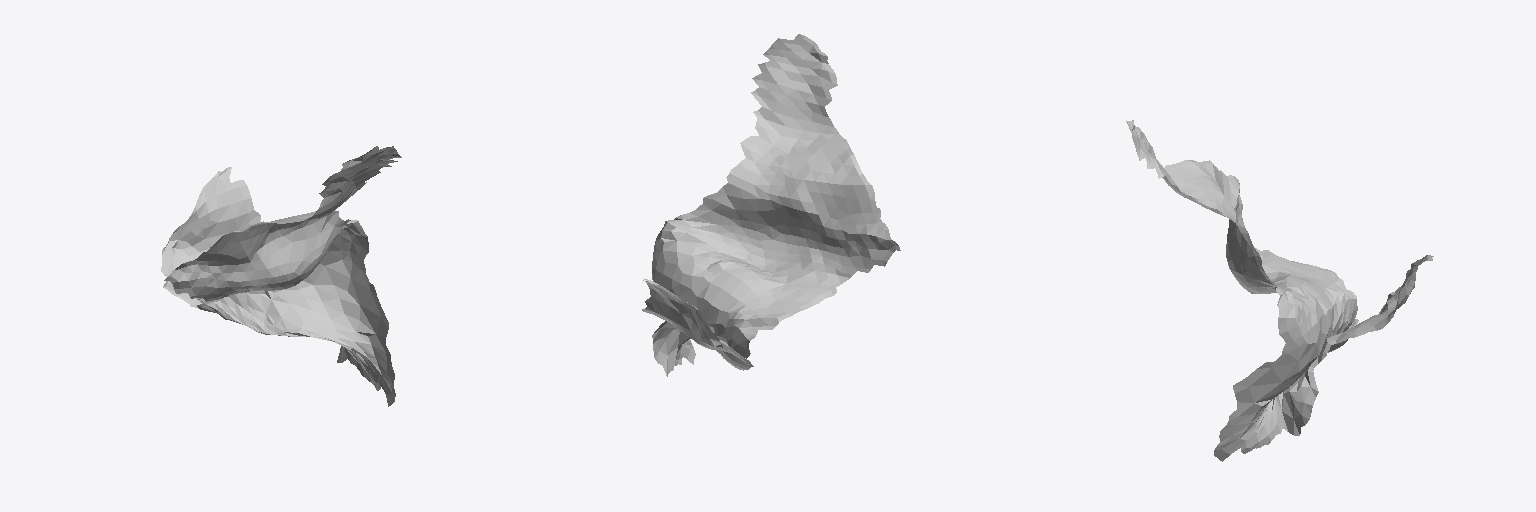
The model's file is L_temporal_superior.obj.obj.
3 renders of one model, left to right at view 1: azimuth 30°, elevation 25°; view 2: azimuth 150°, elevation 25°; view 3: azimuth 270°, elevation 25°, orthographic.
Visible parts, largest first — view 1: L_temporal_superior.obj_R_temporal_superior.obj; view 2: L_temporal_superior.obj_R_temporal_superior.obj; view 3: L_temporal_superior.obj_R_temporal_superior.obj.
Part boxes in pixels (bbox=[...]): L_temporal_superior.obj_R_temporal_superior.obj: bbox=[161, 146, 401, 406]; L_temporal_superior.obj_R_temporal_superior.obj: bbox=[642, 34, 900, 376]; L_temporal_superior.obj_R_temporal_superior.obj: bbox=[1126, 120, 1433, 461].
Size of the model in its own units: 76.55 by 101 by 90.76.